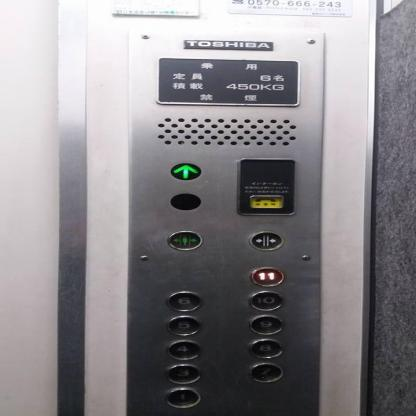1: (162, 386, 202, 408)
10: (246, 290, 285, 312)
11: (248, 266, 286, 288)
3: (162, 362, 202, 384)
4: (164, 338, 202, 360)
5: (164, 315, 202, 336)
6: (164, 290, 203, 312)
8: (246, 338, 284, 359)
9: (246, 313, 284, 336)
blur: (246, 361, 284, 383)
call: (245, 193, 286, 209)
close: (246, 230, 285, 252)
empty: (167, 192, 202, 212)
open: (165, 228, 203, 252)
up: (168, 161, 206, 182)
